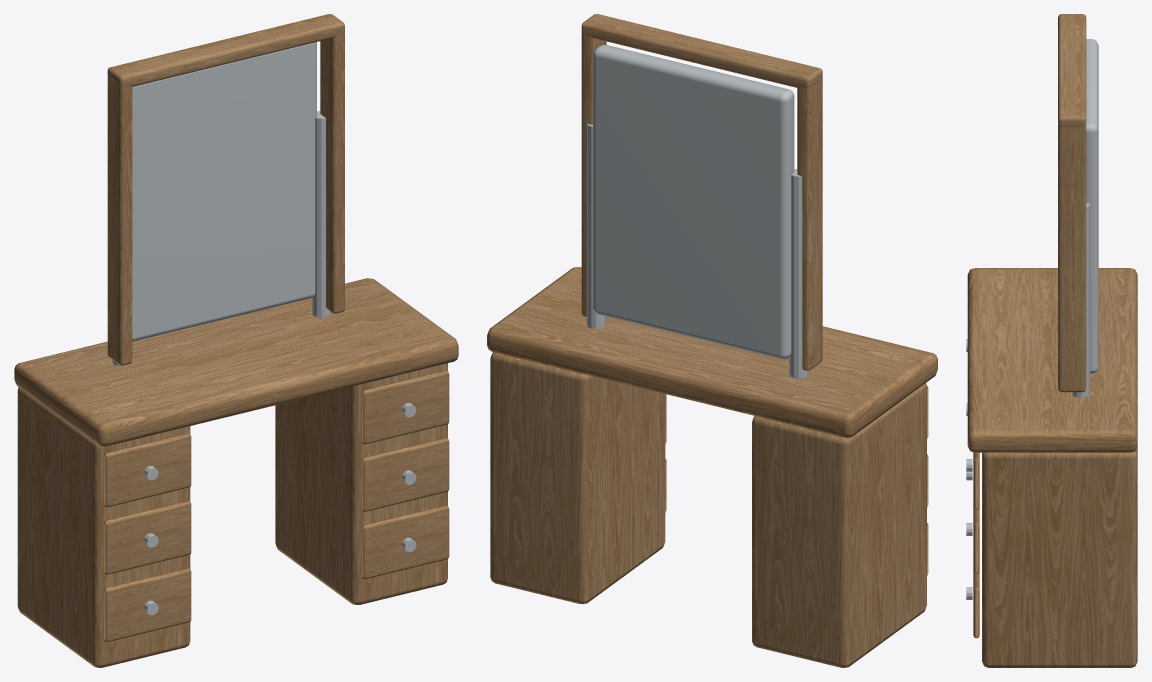
Rendered from dressing_table_white.glb.
3 views of the same model, side by side, from view 1: azimuth 30°, elevation 25°; view 2: azimuth 150°, elevation 25°; view 3: azimuth 270°, elevation 25° (orthographic). The views are drawn at different scales.
Parts seen in each view (by area): view 1: dressing mirror, desk top, drawer pedestal, drawer pedestal.001, mirror frame, top frame, mirror frame.001, drawer face.001, drawer face.002, drawer face.005, drawer face.003, drawer face (+2 smaller); view 2: dressing mirror, drawer pedestal, drawer pedestal.001, desk top, mirror frame, top frame, mirror support, mirror frame.001, mirror support.001; view 3: drawer pedestal.001, desk top, mirror frame.001, dressing mirror, top frame, mirror support.001, drawer face.004, drawer face.003, drawer face.005.
Part boxes in pixels (left/top/right/bottom): dressing mirror: left=132, top=42, right=316, bottom=341; desk top: left=14, top=278, right=458, bottom=446; drawer pedestal: left=17, top=387, right=190, bottom=667; drawer pedestal.001: left=275, top=363, right=447, bottom=604; mirror frame: left=107, top=78, right=132, bottom=365; top frame: left=107, top=14, right=344, bottom=87; mirror frame.001: left=320, top=33, right=344, bottom=313; drawer face.001: left=103, top=501, right=191, bottom=574; drawer face.002: left=103, top=433, right=191, bottom=507; drawer face.005: left=361, top=370, right=449, bottom=444; drawer face.003: left=361, top=505, right=449, bottom=579; drawer face: left=103, top=568, right=191, bottom=641; dressing mirror: left=593, top=45, right=794, bottom=358; drawer pedestal: left=752, top=383, right=926, bottom=667; drawer pedestal.001: left=490, top=352, right=665, bottom=604; desk top: left=487, top=267, right=937, bottom=437; mirror frame: left=797, top=78, right=822, bottom=370; top frame: left=581, top=14, right=822, bottom=88; mirror support: left=789, top=169, right=808, bottom=378; mirror frame.001: left=581, top=33, right=606, bottom=316; mirror support.001: left=586, top=124, right=605, bottom=328; drawer pedestal.001: left=982, top=447, right=1137, bottom=667; desk top: left=967, top=268, right=1137, bottom=452; mirror frame.001: left=1058, top=126, right=1086, bottom=392; dressing mirror: left=1086, top=39, right=1098, bottom=373; top frame: left=1058, top=14, right=1086, bottom=126; mirror support.001: left=1072, top=203, right=1089, bottom=397; drawer face.004: left=973, top=507, right=979, bottom=573; drawer face.003: left=973, top=571, right=979, bottom=638; drawer face.005: left=973, top=452, right=979, bottom=509.
Bounding box in the file's own units: 1.12 × 1.63 × 0.484.
Materials: 3 (1 with a texture image).
